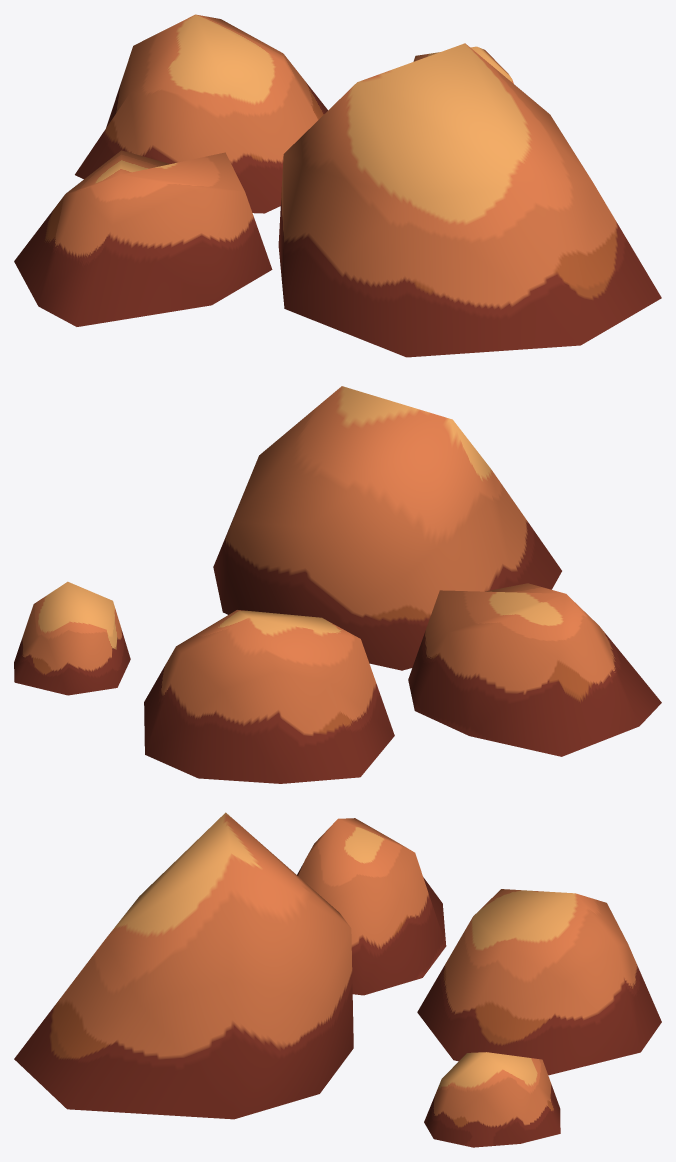
The model's file is Rock 3x 3 2_preview_3DS_simplified.glb.
3 views of the same model, one above another, from view 1: azimuth 30°, elevation 25°; view 2: azimuth 150°, elevation 25°; view 3: azimuth 270°, elevation 25° (orthographic). The views are drawn at different scales.
Parts seen in each view (by area): view 1: Marine Park Empire model; view 2: Marine Park Empire model; view 3: Marine Park Empire model.
Part boxes in pixels (left/top/right/bottom): Marine Park Empire model: left=14, top=14, right=661, bottom=357; Marine Park Empire model: left=14, top=386, right=661, bottom=783; Marine Park Empire model: left=14, top=812, right=661, bottom=1147.
Bounding box in the file's own units: 86.3 × 32.08 × 91.98.
1 material, 1 textured.
